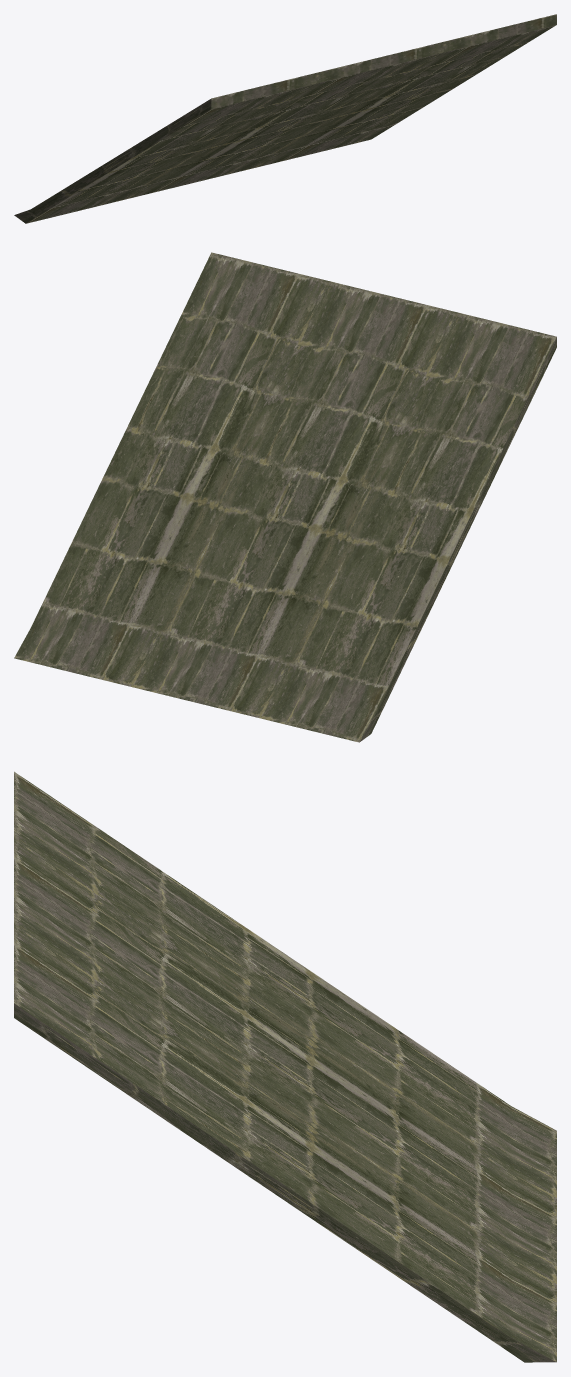
The model's file is Roof_R.fbx.
3 renders of one model, top to bottom at view 1: azimuth 30°, elevation 25°; view 2: azimuth 150°, elevation 25°; view 3: azimuth 270°, elevation 25°, orthographic. The views are drawn at different scales.
Visible parts, largest first — view 1: Roof_Single_LHalf.002; view 2: Roof_Single_LHalf.002; view 3: Roof_Single_LHalf.002.
Part boxes in pixels (bbox=[...]): Roof_Single_LHalf.002: bbox=[14, 14, 556, 223]; Roof_Single_LHalf.002: bbox=[14, 252, 556, 742]; Roof_Single_LHalf.002: bbox=[14, 771, 556, 1362].
Bounding box in the file's own units: 859 × 621 × 850.
